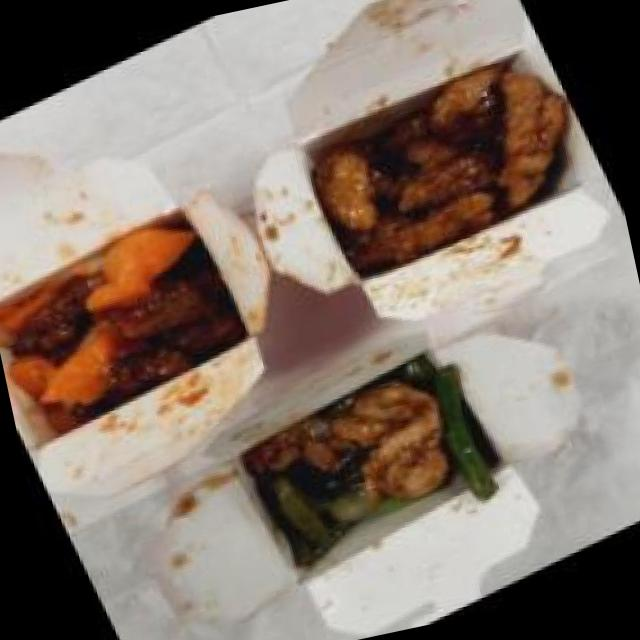Beijing Beef: (0, 193, 264, 448)
The Original Orange Chicken: (280, 21, 618, 303)
